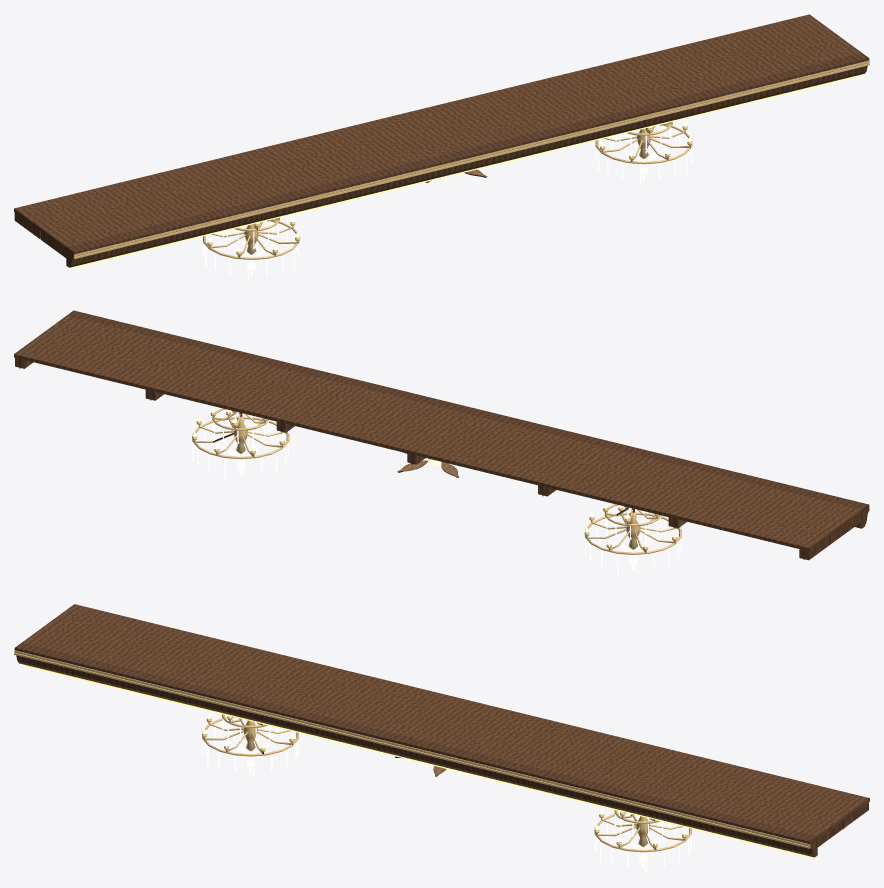
The model's file is ceiling_rich1.glb.
The picture shows the model from 3 angles, top to bottom: view 1: azimuth 30°, elevation 25°; view 2: azimuth 150°, elevation 25°; view 3: azimuth 330°, elevation 25°; orthographic projection.
Visible parts, largest first — view 1: decor, mesh_sway_chandelier_3_mesh, mesh_sway_chandelier_11_mesh; view 2: decor, mesh_sway_chandelier_3_mesh, mesh_sway_chandelier_11_mesh; view 3: decor, mesh_sway_chandelier_3_mesh, mesh_sway_chandelier_11_mesh.
Part boxes in pixels (box(x1,y1,x2,y2)): decor: box(14, 14, 869, 267); mesh_sway_chandelier_3_mesh: box(202, 217, 300, 281); mesh_sway_chandelier_11_mesh: box(595, 121, 692, 185); decor: box(14, 310, 869, 560); mesh_sway_chandelier_3_mesh: box(584, 503, 681, 574); mesh_sway_chandelier_11_mesh: box(192, 407, 289, 479); decor: box(14, 604, 869, 857); mesh_sway_chandelier_3_mesh: box(202, 713, 299, 777); mesh_sway_chandelier_11_mesh: box(594, 809, 691, 873).
Size of the model in its own units: 15 by 1.73 by 1.98.
Materials: 5 (1 with a texture image).
